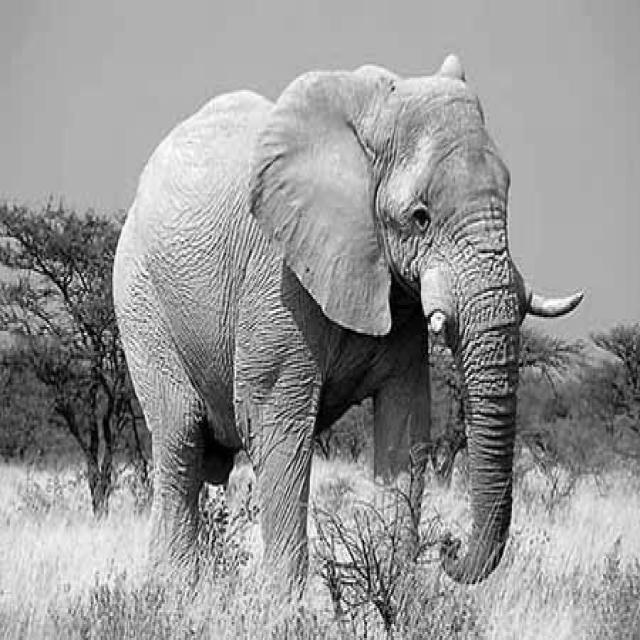Elephant: (111, 52, 583, 600)
